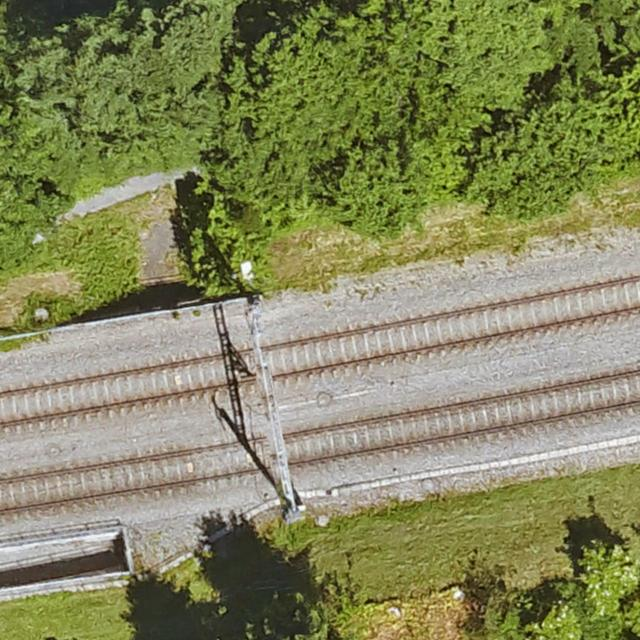tree: (210, 3, 437, 229), (6, 0, 225, 164), (467, 118, 601, 214), (440, 0, 535, 107), (571, 542, 638, 639), (242, 595, 335, 640)
